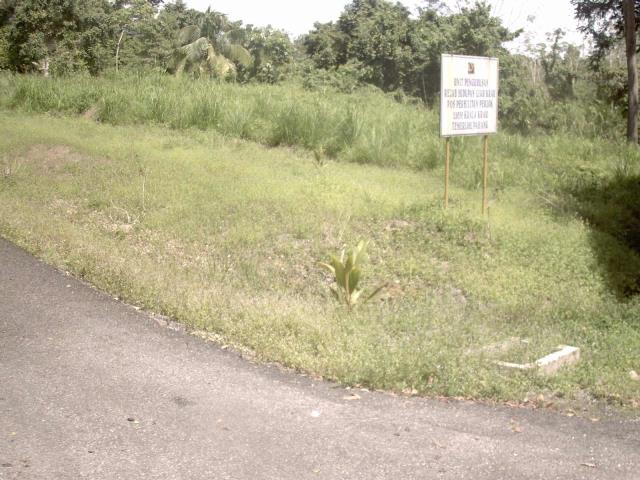ads_sign: (430, 48, 509, 145)
